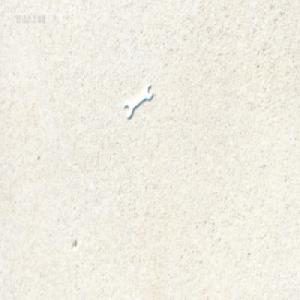Wrench: (124, 83, 154, 119)
